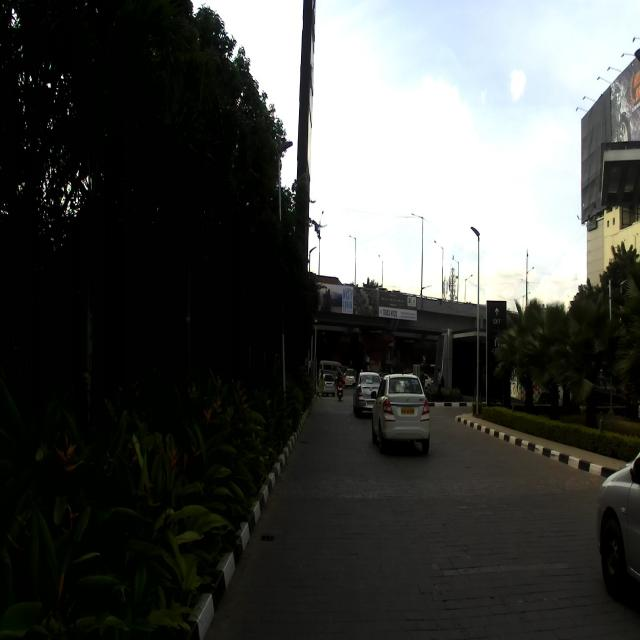Car_Maruti-Suzuki: (368, 371, 433, 455)
